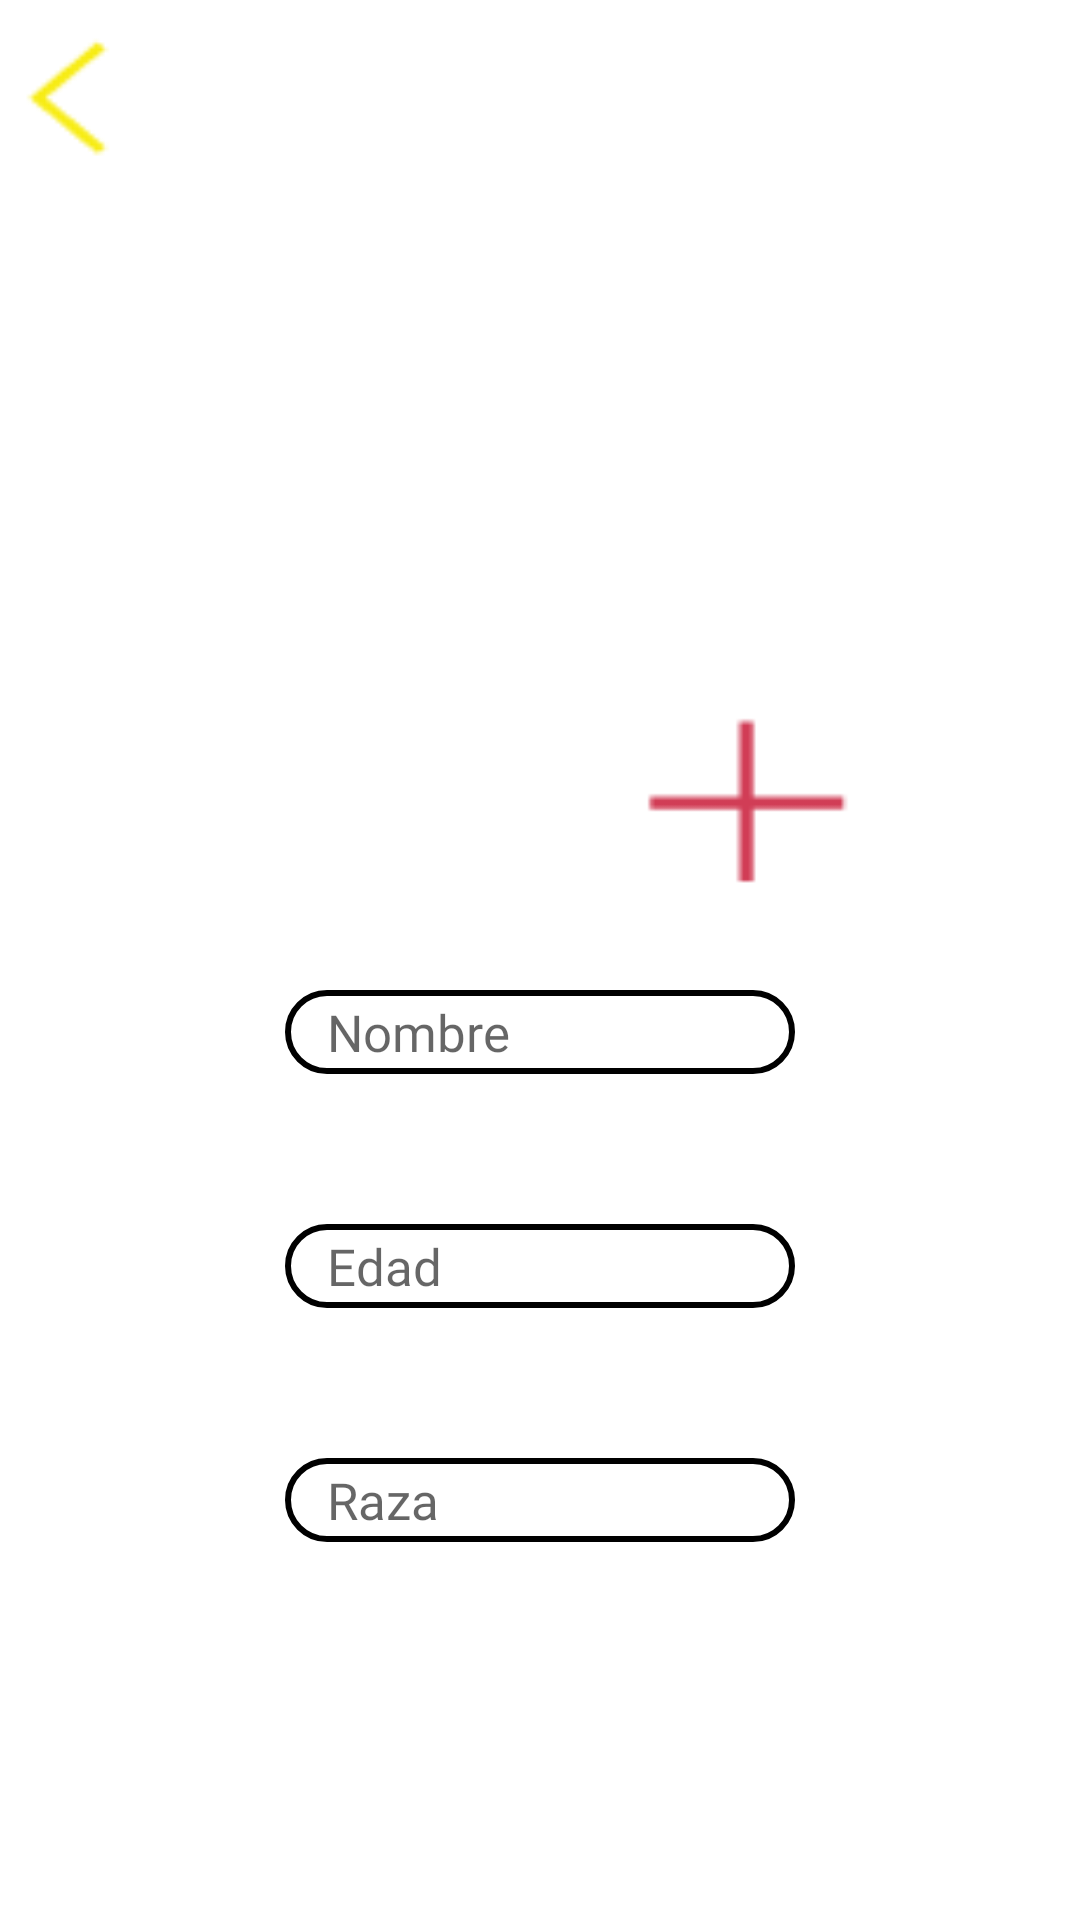

Named icons in this screenshot (1080px x 1920px) and their bounding boxes, (x1, y1, x2, y2):
mas: (648, 719, 847, 883)
regresar: (27, 41, 108, 155)
